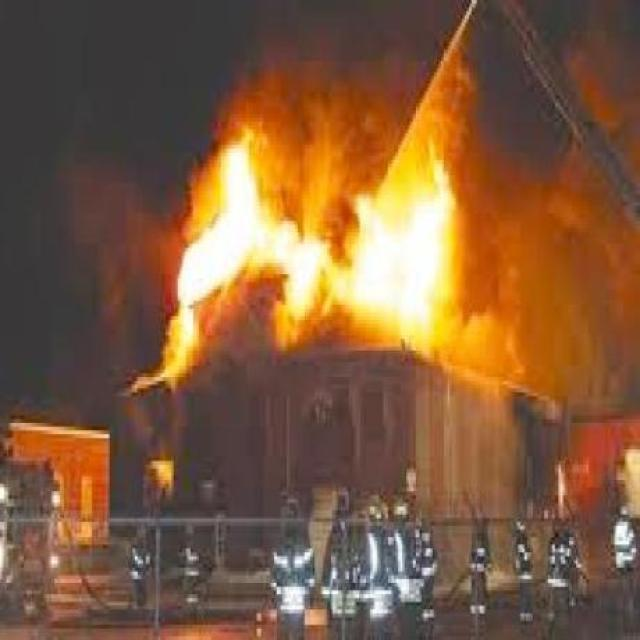Fire: (177, 148, 332, 314), (340, 163, 460, 352), (148, 312, 198, 382)
Smoke: (466, 126, 640, 406), (222, 32, 428, 150), (50, 142, 167, 295)
